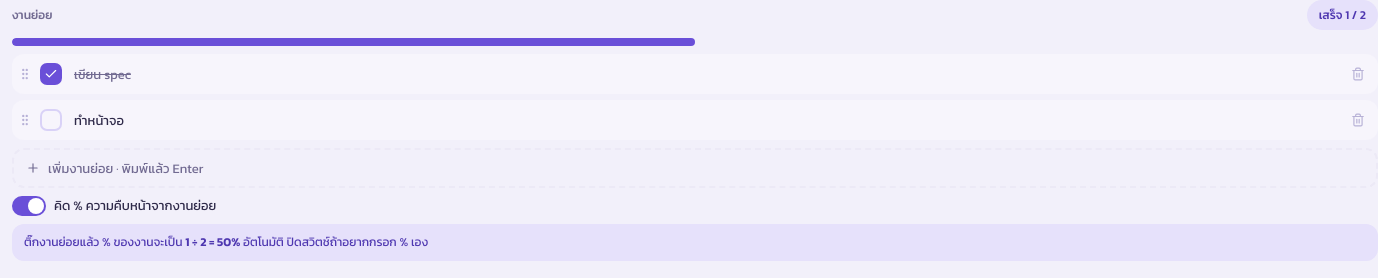
Test case: ChecklistSection › ticks, renames, deletes and shows the derived percent
Expected: the text with test id "checklist-count" reads "เสร็จ 1 / 2", top-left (1307, 0), bottom-right (1377, 30)
Expected: the element with test id "checklist-note" shows "1 ÷ 2 = 50%", top-left (12, 224), bottom-right (1377, 261)
Click the checkbox named "ทำเสร็จ ทำหน้าจอ". click: (51, 120)
box: top-left (40, 109), bottom-right (62, 131)
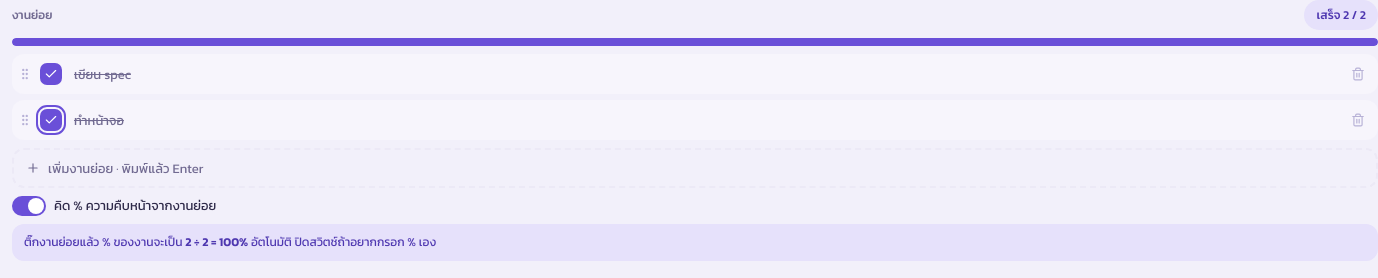
Now the text with test id "checklist-count" reads "เสร็จ 2 / 2", box top-left (1304, 0), bottom-right (1377, 30)
Now the element with test id "checklist-note" shows "2 ÷ 2 = 100%", box top-left (12, 224), bottom-right (1377, 261)
Replace the text in the field named "ข้อความงานย่อย 2" with "ทำหน้าจอสแกน". click: (702, 120)
box: top-left (70, 104), bottom-right (1334, 136)
Then press Enter
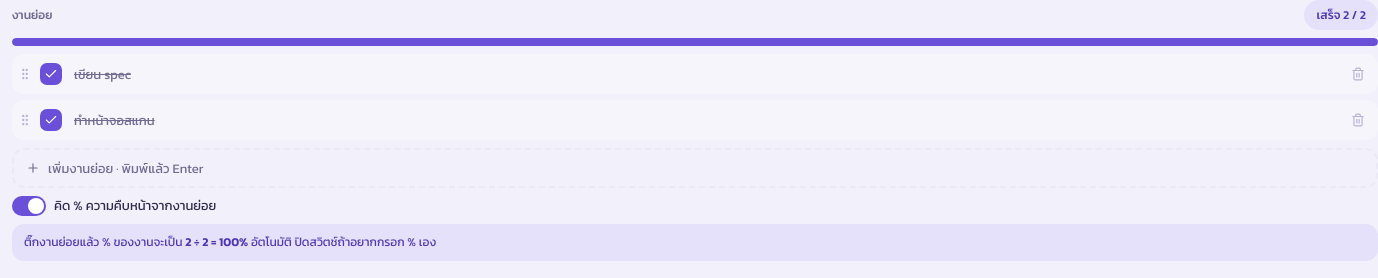
Click the button named "ลบงานย่อย เขียน spec". click: (1358, 74)
box: top-left (1342, 58), bottom-right (1374, 90)
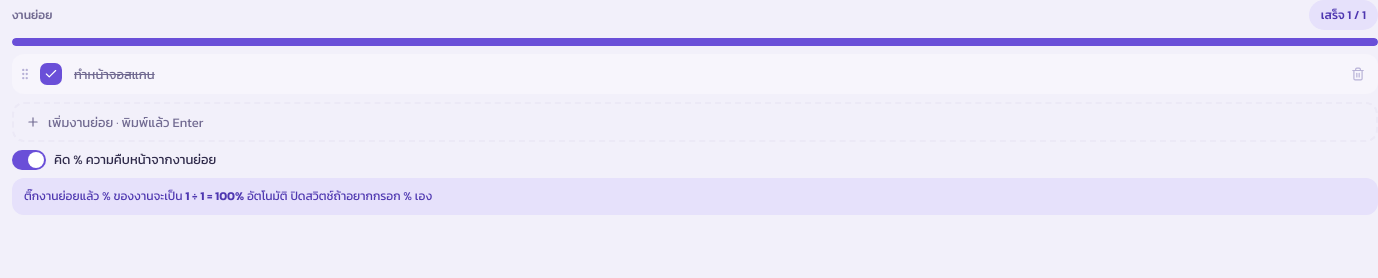
Now the text with test id "checklist-count" reads "เสร็จ 1 / 1", box top-left (1309, 0), bottom-right (1377, 30)
